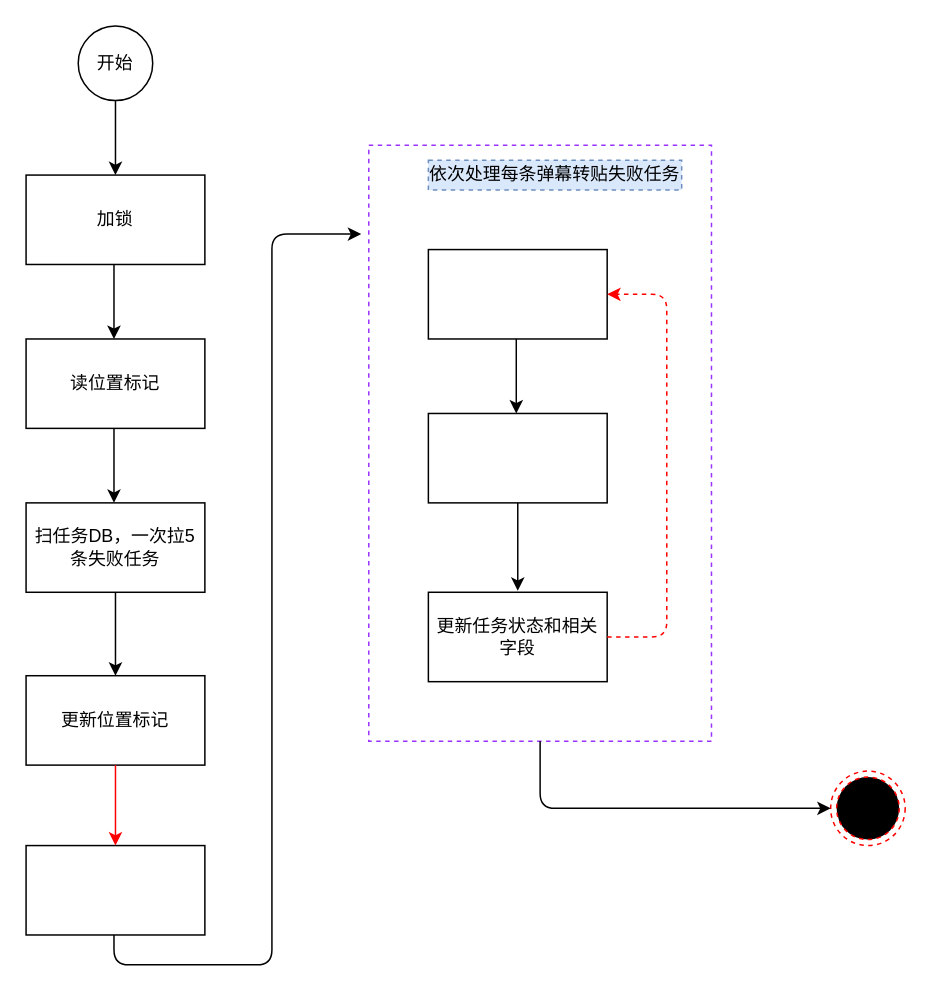
Some shapes in this 931 by 1003 pixel diagram are drawn without their labels. The shapes that lost their labels are listed below. From the top down, each one's centre as x and y in pixels, then its label:
the point at 517,293: 更新任务状态
the point at 517,457: 调处理接口
the point at 115,889: 释放锁
